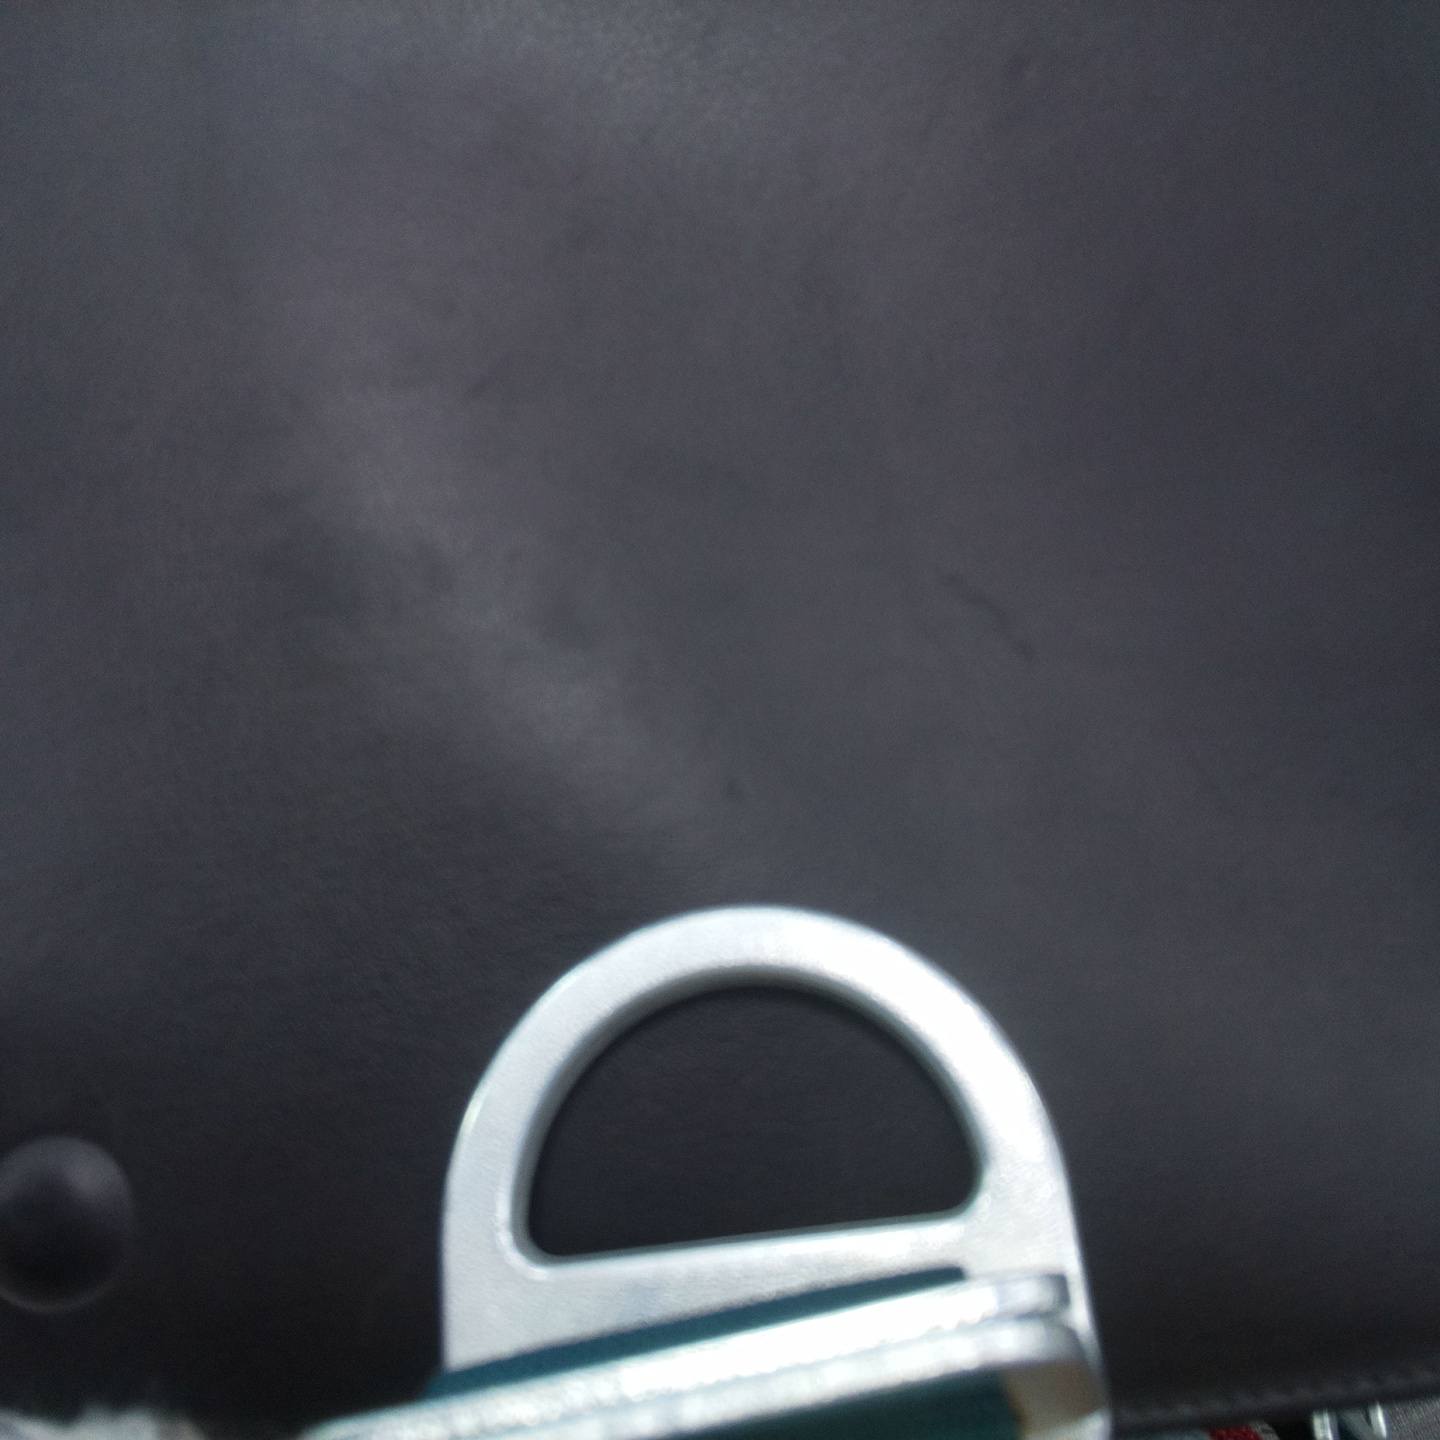UNSUCCESS: (433, 895, 1083, 1378)
